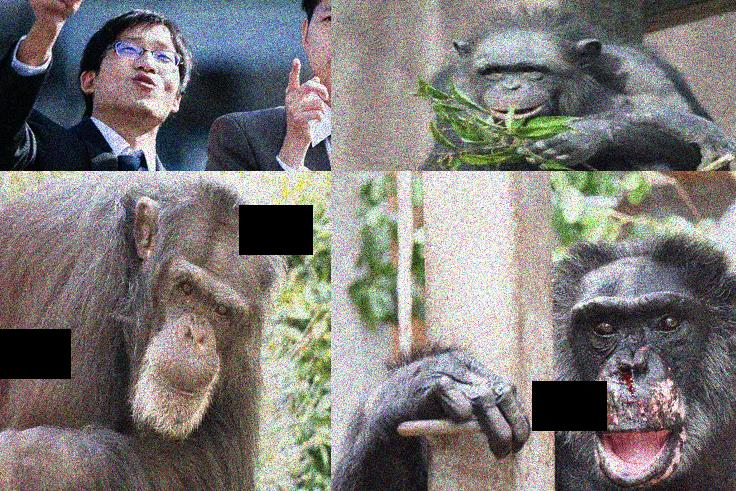chimpanzee: (331, 236, 736, 491), (0, 173, 258, 491), (422, 6, 735, 170)
human: (0, 0, 198, 171), (207, 0, 331, 171)
